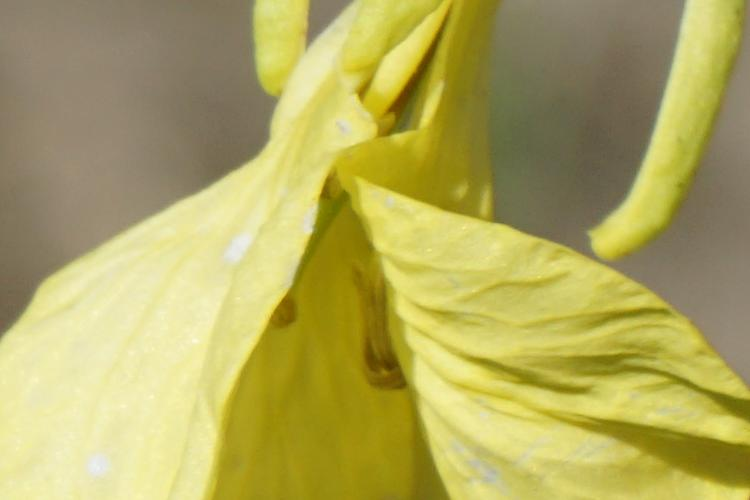yellow: (35, 36, 730, 489)
